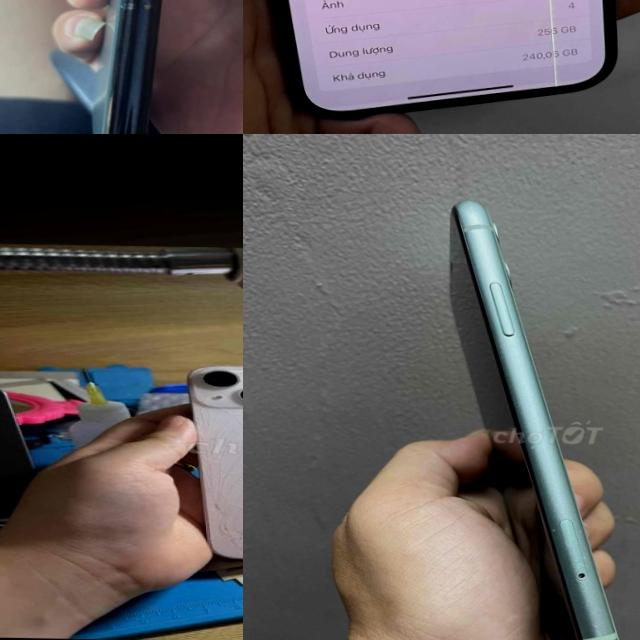gen_11: (420, 182, 637, 640)
gen_12_13: (243, 0, 638, 125)
gen_14: (185, 359, 243, 559)
gen_x_xs: (86, 0, 205, 134)
